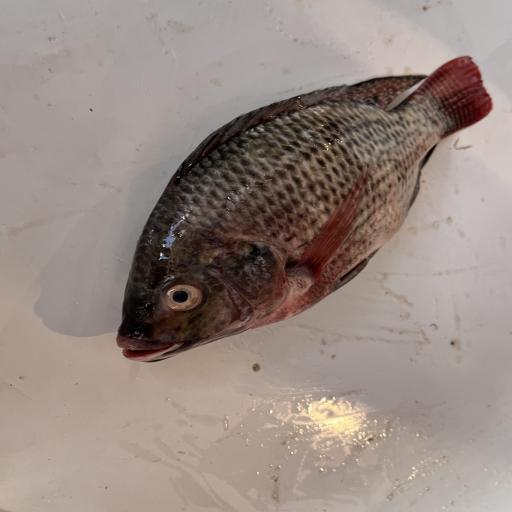Tilapia: (116, 55, 494, 363)
